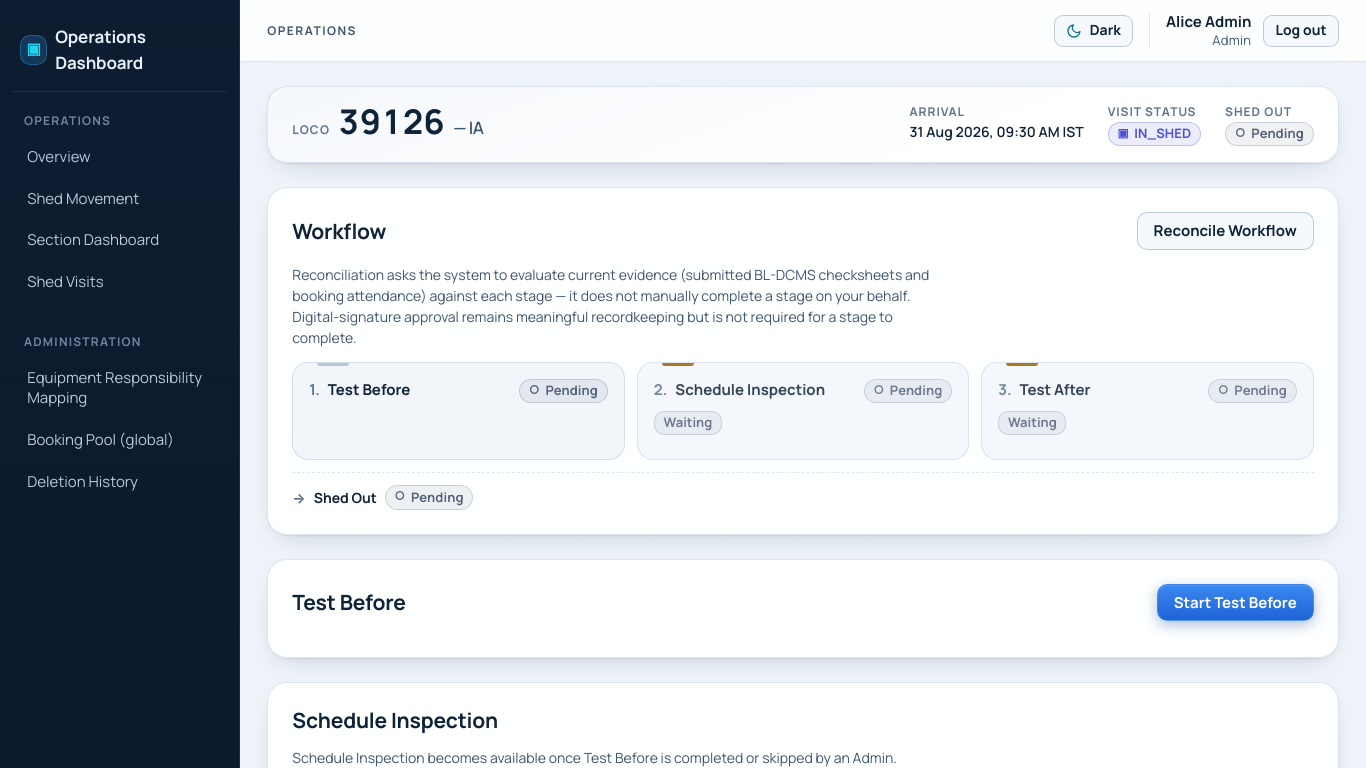
ShedVisitWorkflowPage › allows completion with zero TB bookings
Click the button "Start Test Before".
click(1235, 602)  # box [1157,584,1314,621]
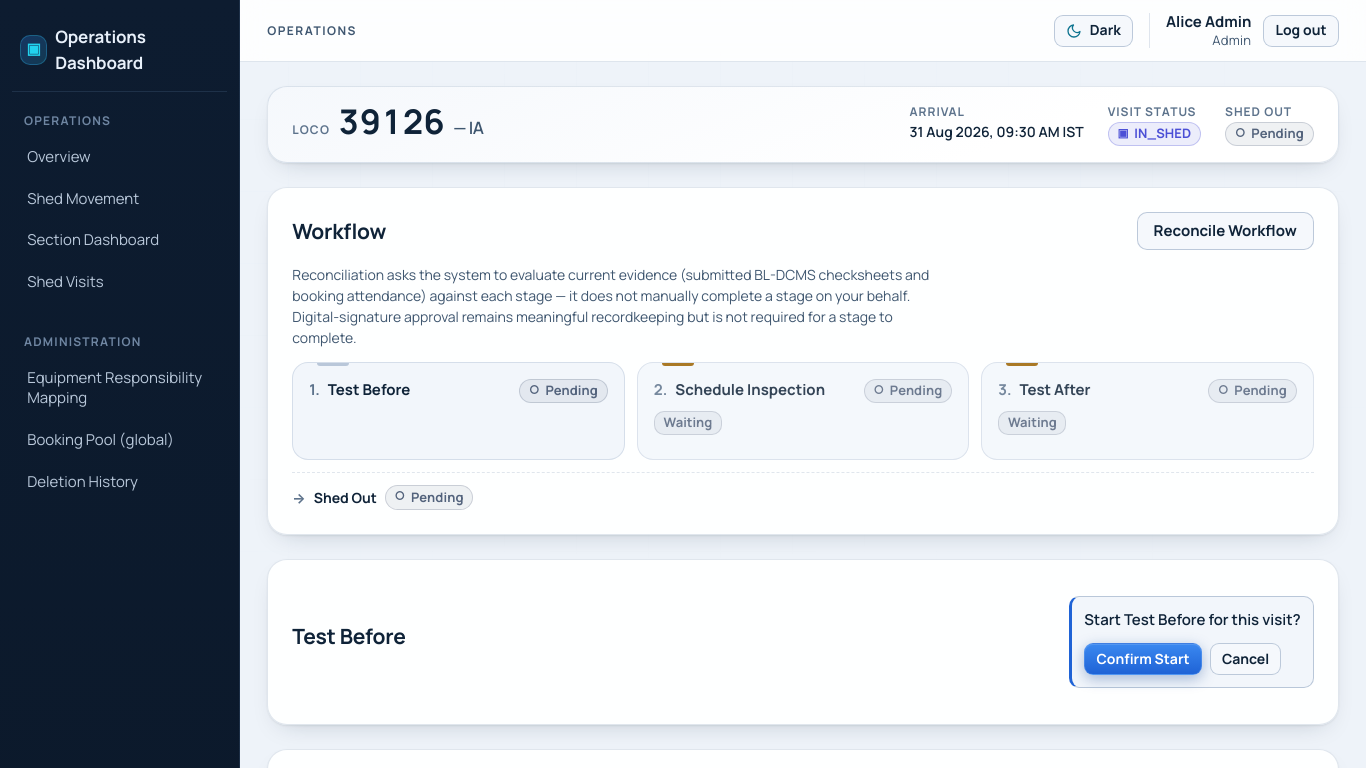
Click the button "Confirm Start".
click(1143, 659)  # box [1084,643,1202,675]
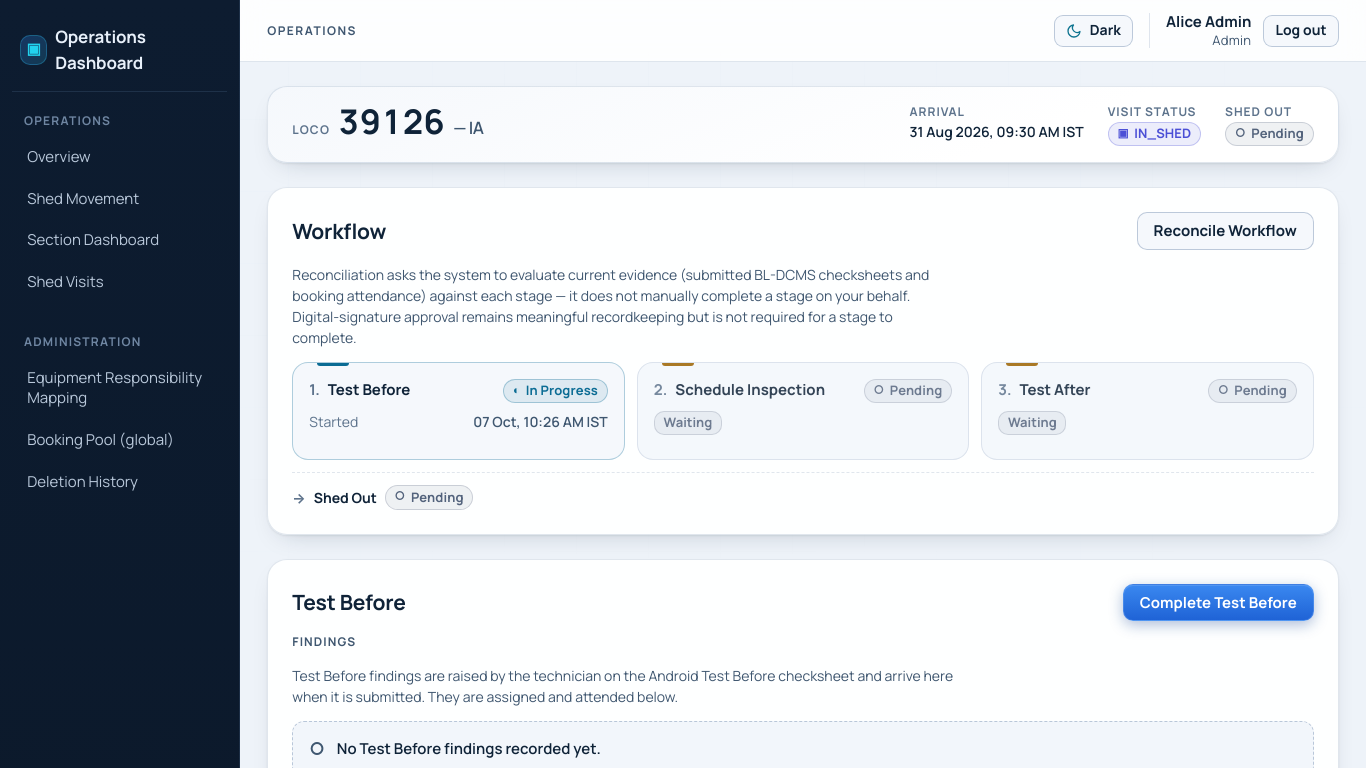
Click the button "Complete Test Before".
click(1218, 602)  # box [1123,584,1314,621]
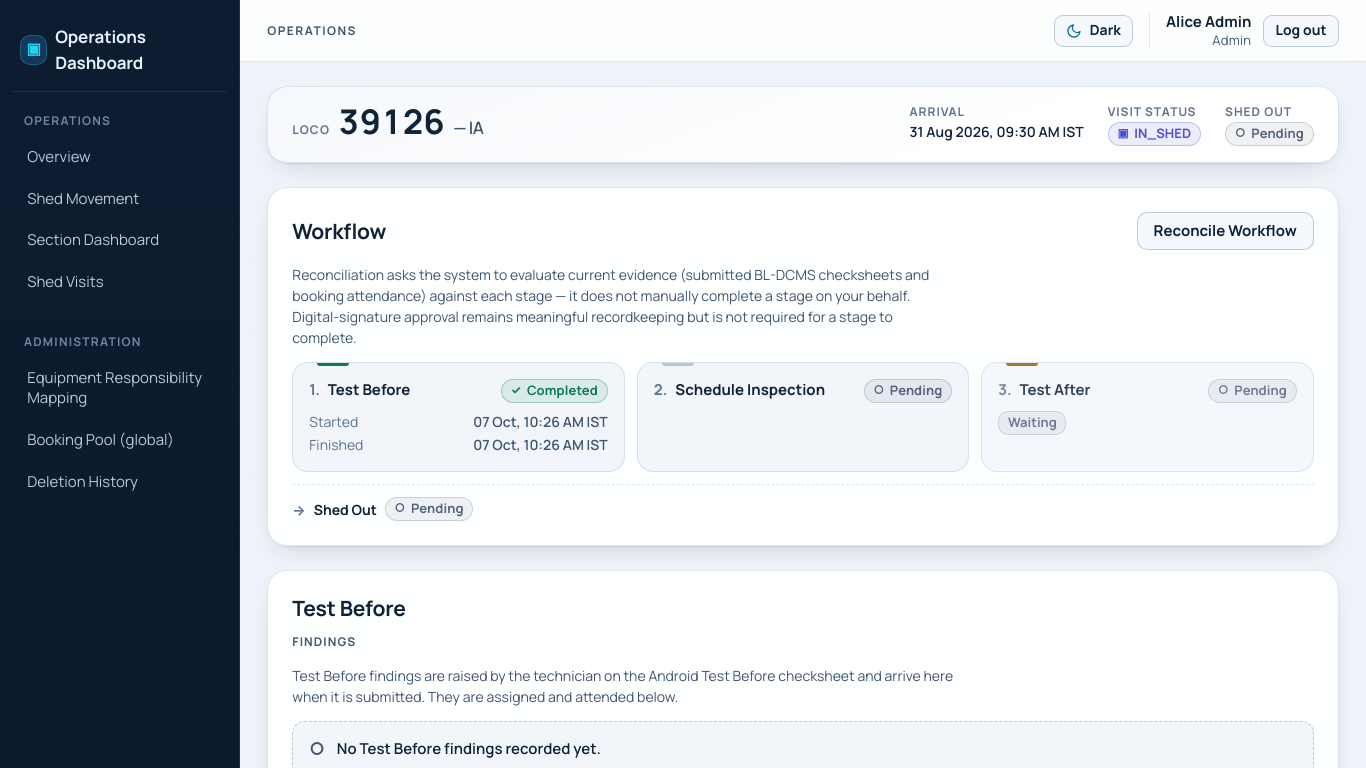
Check: the text "Completed" is shown, box [527,382,598,399]
